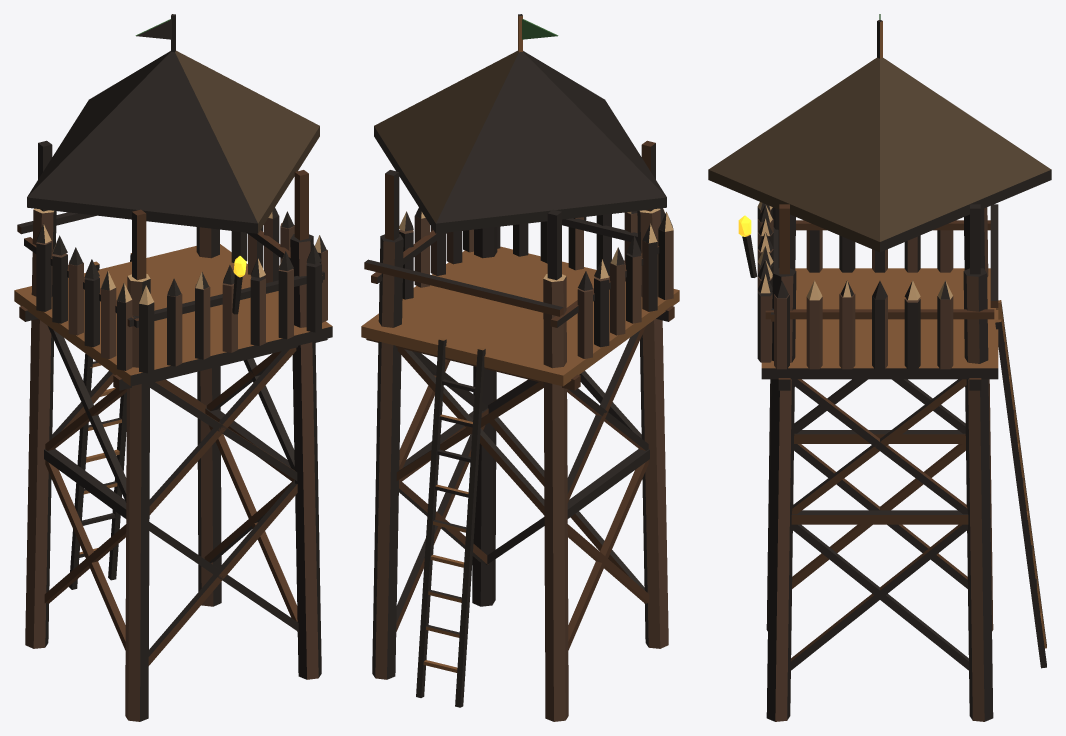
The model's file is Palisade_Wachturm_Beschaedigt.fbx.
3 views of the same model, side by side, from view 1: azimuth 30°, elevation 25°; view 2: azimuth 150°, elevation 25°; view 3: azimuth 270°, elevation 25° (orthographic).
Parts seen in each view (by area): view 1: Palisade_Wachturm_Beschaedigt; view 2: Palisade_Wachturm_Beschaedigt; view 3: Palisade_Wachturm_Beschaedigt.
Boxes of the visible parts, bbox=[...] form: Palisade_Wachturm_Beschaedigt: bbox=[14, 14, 332, 721]; Palisade_Wachturm_Beschaedigt: bbox=[361, 14, 679, 721]; Palisade_Wachturm_Beschaedigt: bbox=[708, 14, 1051, 721].
Bounding box in the file's own units: 4.5 × 9.45 × 4.5.
